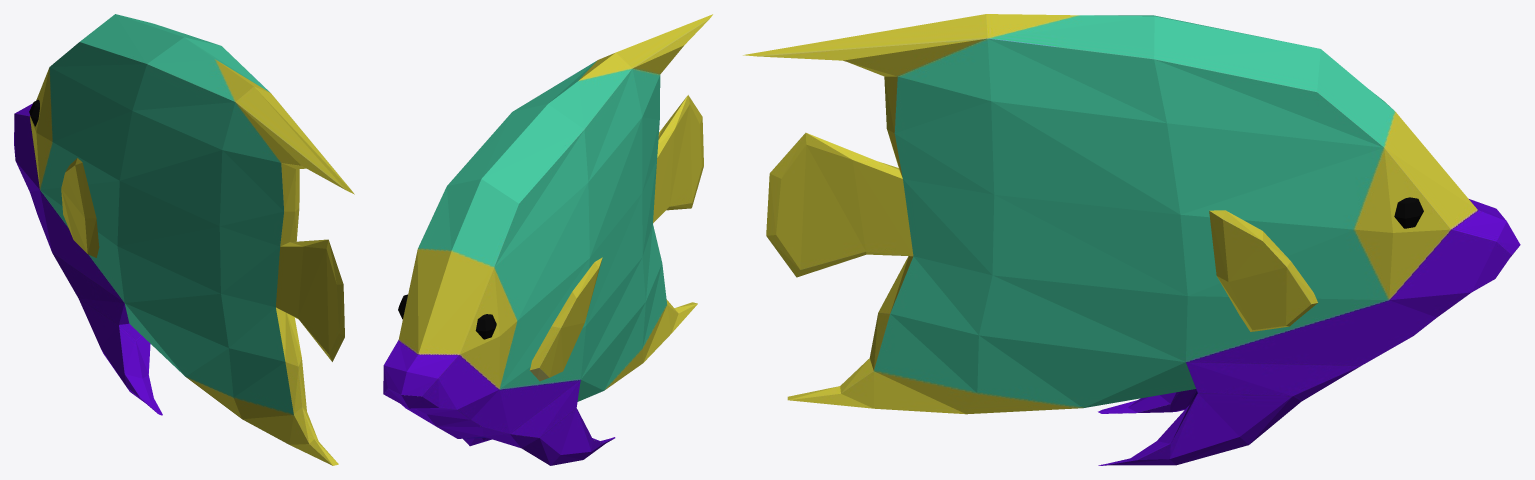
File: BluefaceAngelfish.gltf
3 renders of one model, left to right at view 1: azimuth 30°, elevation 25°; view 2: azimuth 150°, elevation 25°; view 3: azimuth 270°, elevation 25°, orthographic. The views are drawn at different scales.
Visible parts, largest first — view 1: fish; view 2: fish; view 3: fish.
Part boxes in pixels (bbox=[...]): fish: bbox=[14, 14, 354, 465]; fish: bbox=[383, 14, 712, 465]; fish: bbox=[743, 14, 1520, 465].
Size of the model in its own units: 97.79 by 204 by 338.
1 material, 1 textured.
